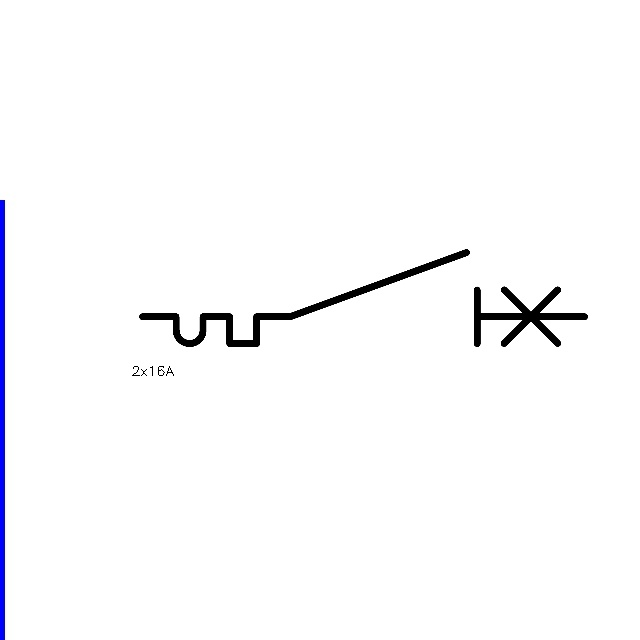interruptor_termomagnetico: (131, 241, 596, 355)
